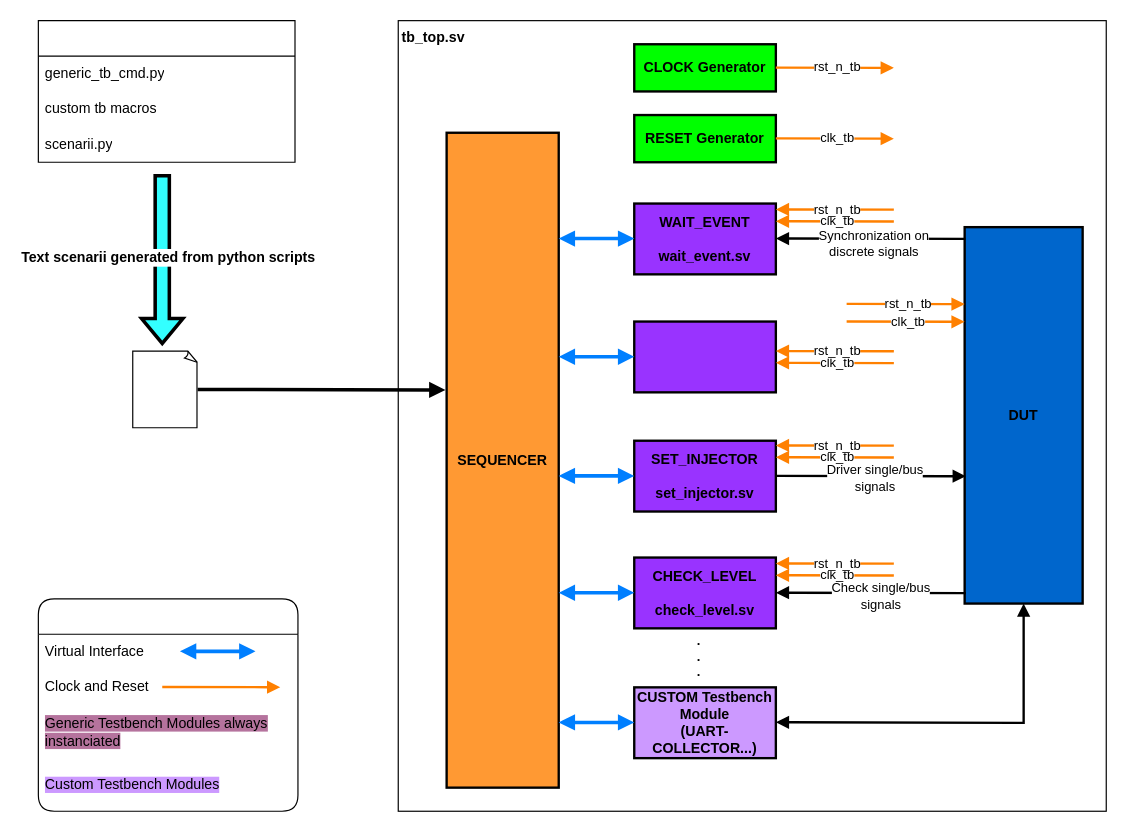
Image size: 1127x832. Some labels were removed from this diagram. The box of each missing label's shape, as (x1, y1, x2, y2) in pixels:
Legend: (37, 598, 298, 811)
PYTHON SIDE: (37, 19, 295, 162)
scn.txt: (132, 350, 198, 428)
WAIT_DURATION wait_duration.sv: (632, 320, 776, 393)
